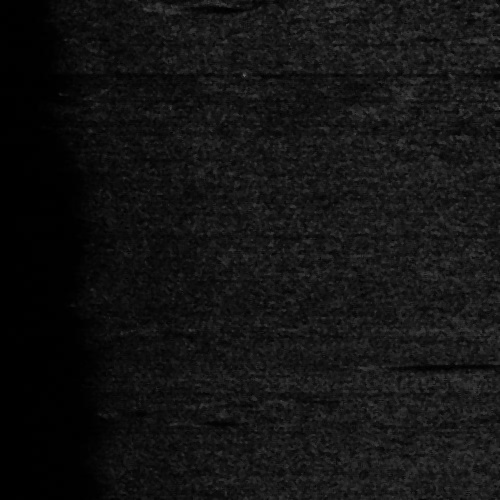object: (361, 360, 414, 367)
shadow: (388, 360, 500, 367)
